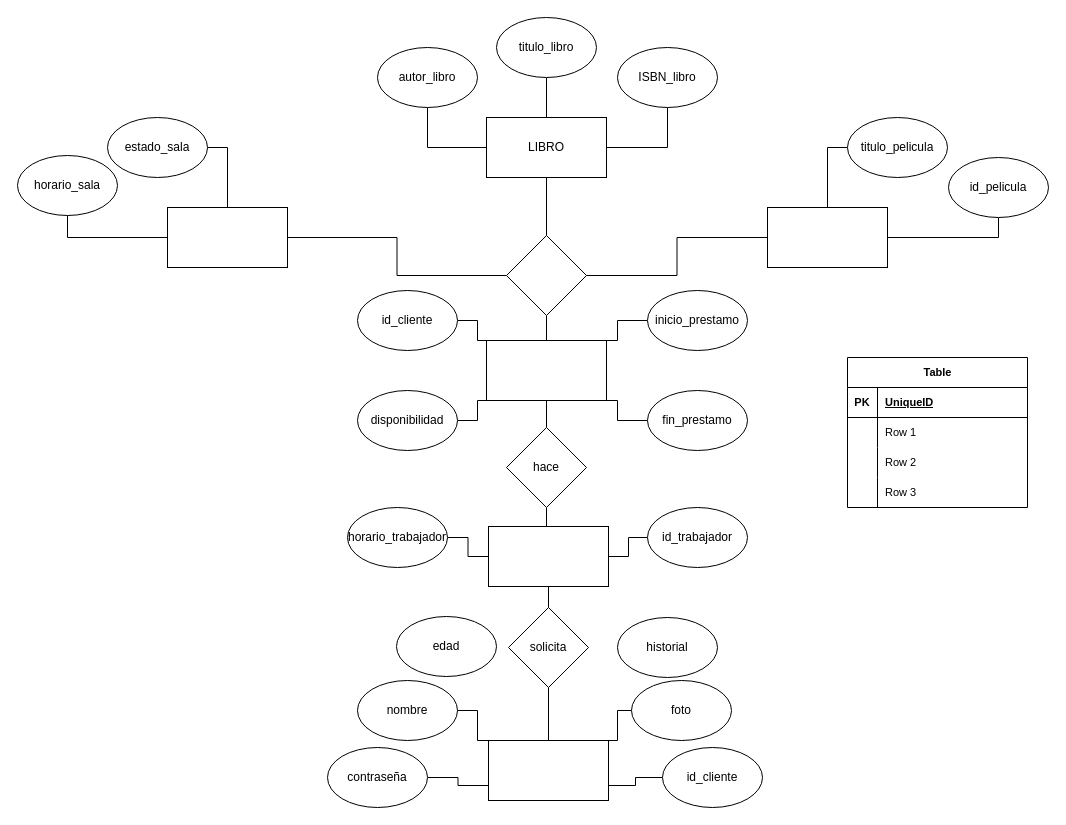
The diagram is 1066 pixels wide and 825 high, and some of its shapes have lost their labels. The shapes that lost their labels are listed below. From the top down, each one's centre as x and y in pixels, then its label:
pixel 227 237: SALA
pixel 827 237: PELICULA
pixel 546 275: presta
pixel 546 370: RESERVA
pixel 548 556: BIBLIOTECARIO
pixel 548 770: USUARIO
